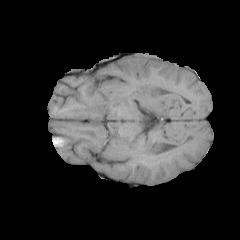glioma: (130, 80, 173, 110)
